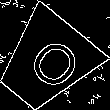O_SW: (12, 29, 80, 95)
